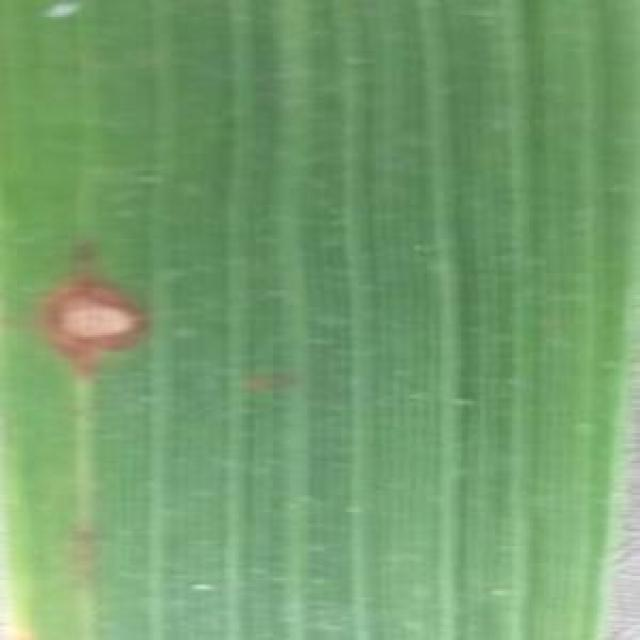Rice_Blast: (19, 225, 209, 424)
